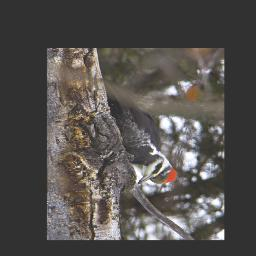Woodpecker: (108, 92, 180, 186)
